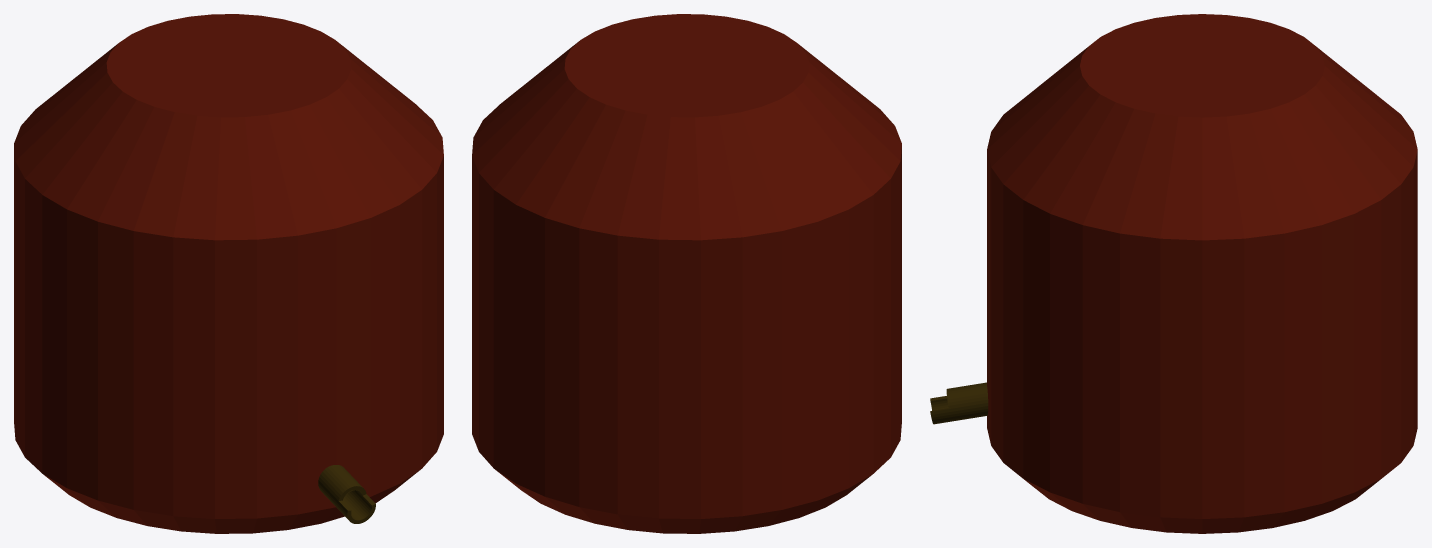
File: WaterTank.fbx
3 renders of one model, left to right at view 1: azimuth 30°, elevation 25°; view 2: azimuth 150°, elevation 25°; view 3: azimuth 270°, elevation 25°, orthographic.
Parts seen in each view (by area): view 1: Cylinder.006; view 2: Cylinder.006; view 3: Cylinder.006.
Boxes of the visible parts, x1,y1,x2,y2 form: Cylinder.006: (14,14,443,533); Cylinder.006: (472,14,901,533); Cylinder.006: (930,14,1417,533).
Bounding box in the file's own units: 200 × 200 × 226.
